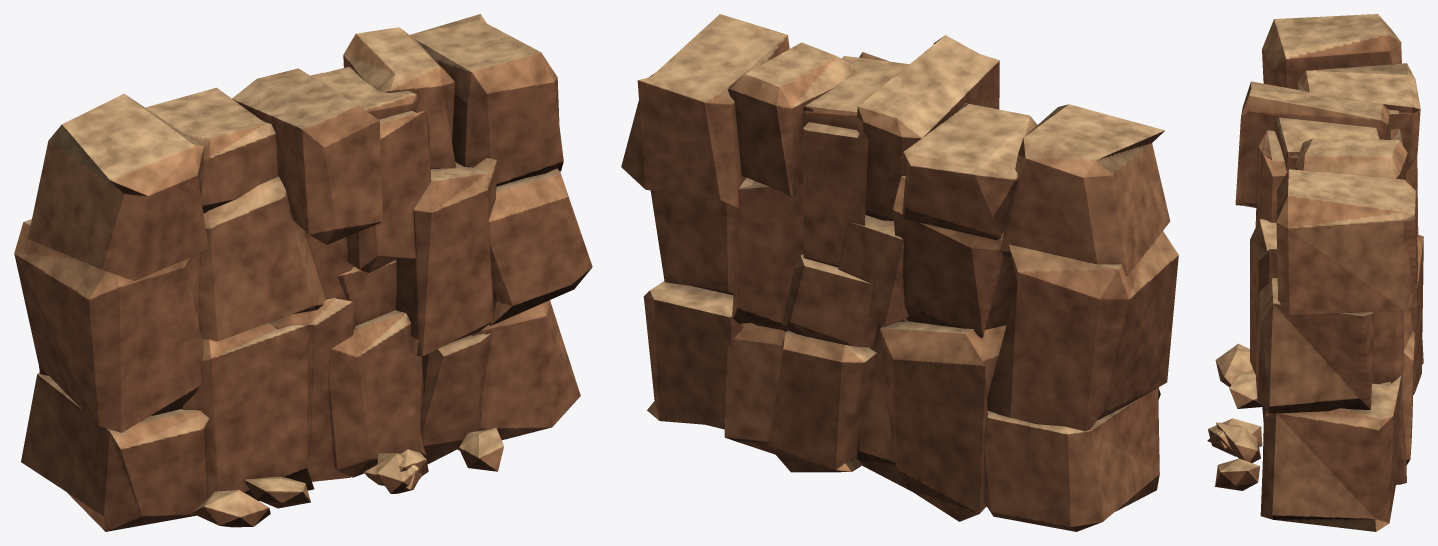
The model's file is Env_CliffBrown_1.glb.
3 renders of one model, left to right at view 1: azimuth 30°, elevation 25°; view 2: azimuth 150°, elevation 25°; view 3: azimuth 270°, elevation 25°, orthographic. The views are drawn at different scales.
Parts seen in each view (by area): view 1: Env_CliffBrown_1.001; view 2: Env_CliffBrown_1.001; view 3: Env_CliffBrown_1.001.
Part boxes in pixels (bbox=[...]): Env_CliffBrown_1.001: bbox=[14, 14, 592, 531]; Env_CliffBrown_1.001: bbox=[621, 14, 1178, 531]; Env_CliffBrown_1.001: bbox=[1207, 14, 1423, 531].
Bounding box in the file's own units: 12 × 8.95 × 4.97.
1 material, 1 textured.
